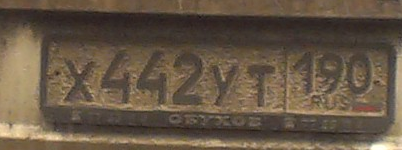character: (101, 46, 135, 105), (139, 48, 171, 107), (172, 49, 205, 106), (61, 55, 97, 102), (247, 62, 278, 109), (210, 63, 239, 110), (347, 51, 375, 98), (318, 52, 344, 98), (294, 50, 318, 97)
